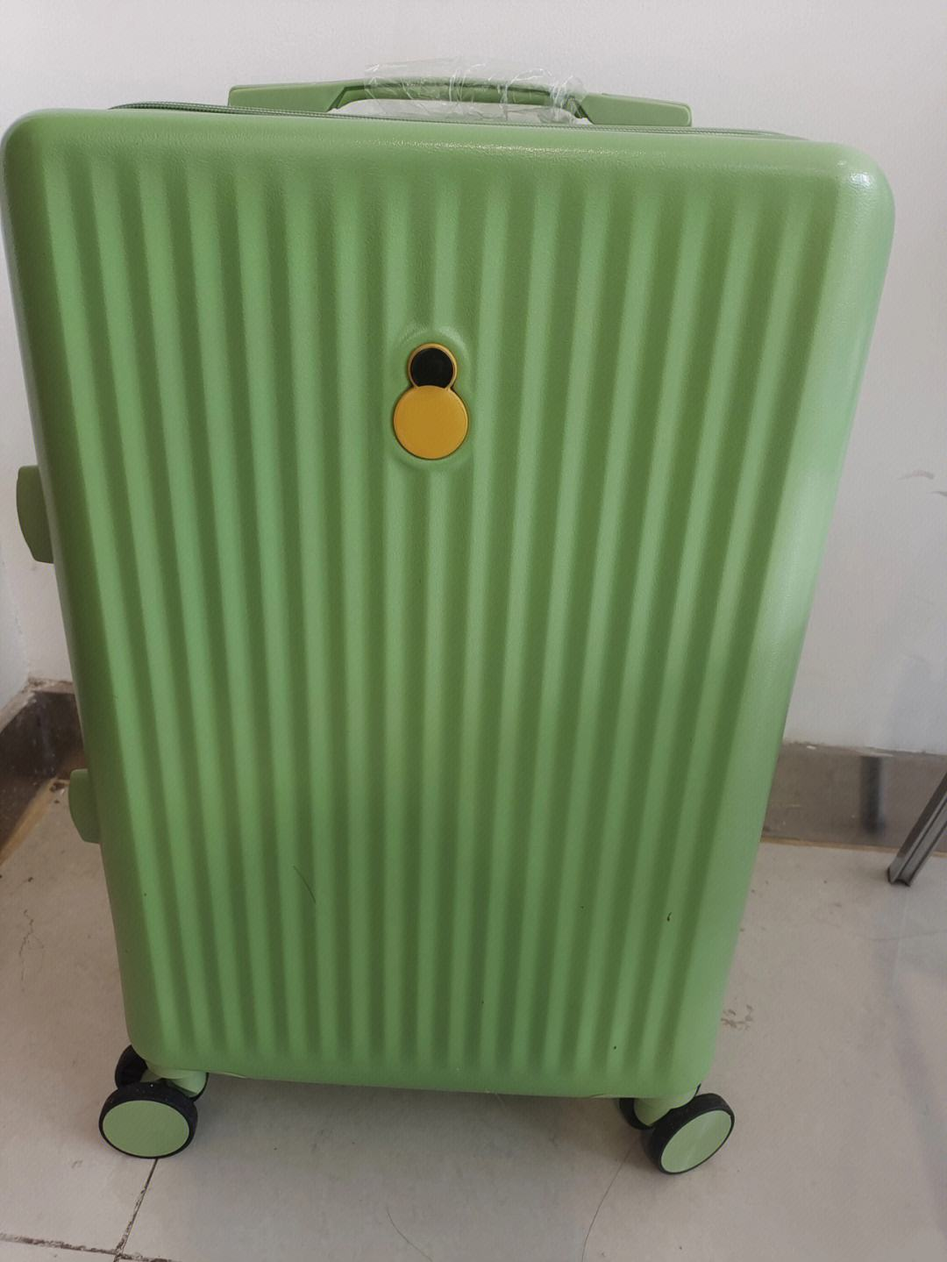box: (2, 105, 894, 1102)
handle: (226, 76, 692, 129)
wheel: (99, 1045, 199, 1160), (619, 1082, 735, 1176)
